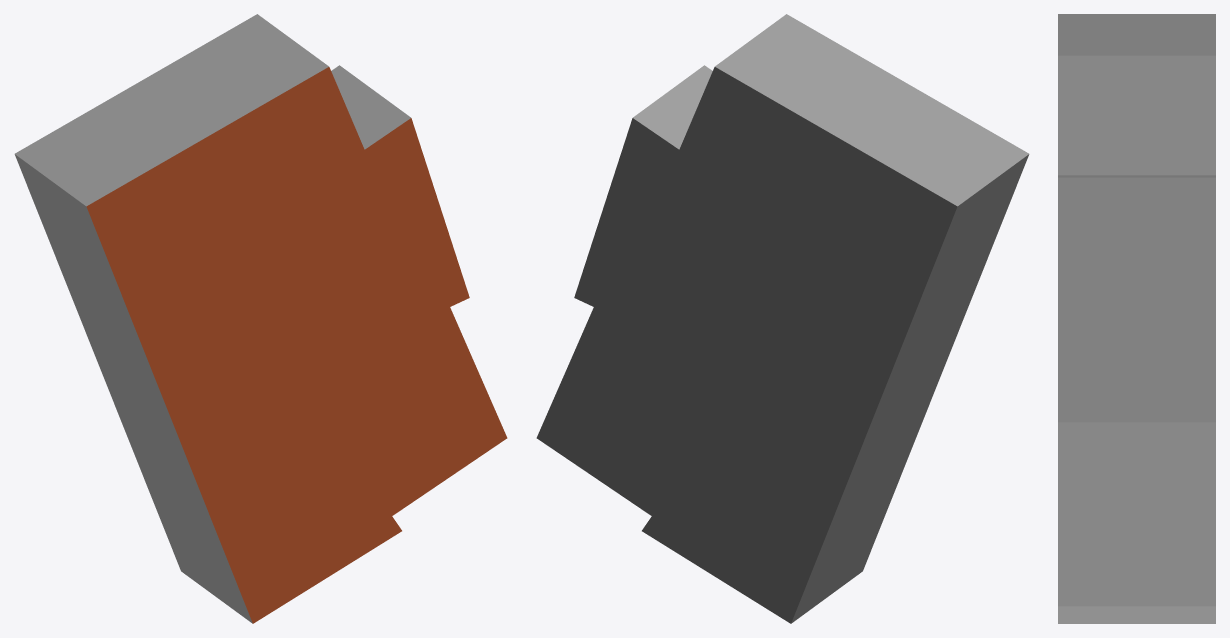
File: construction_5135_assumed_A_Casa_h6m.obj
3 renders of one model, left to right at view 1: azimuth 30°, elevation 25°; view 2: azimuth 150°, elevation 25°; view 3: azimuth 270°, elevation 25°, orthographic. The views are drawn at different scales.
Parts seen in each view (by area): view 1: construction_5135_assumed_A_Casa; view 2: construction_5135_assumed_A_Casa; view 3: construction_5135_assumed_A_Casa.
Part boxes in pixels (x1,y1,x2,y2): construction_5135_assumed_A_Casa: [14, 14, 507, 623]; construction_5135_assumed_A_Casa: [536, 14, 1029, 623]; construction_5135_assumed_A_Casa: [1058, 14, 1215, 623].
Bounding box in the file's own units: 20.29 × 24.8 × 6.
